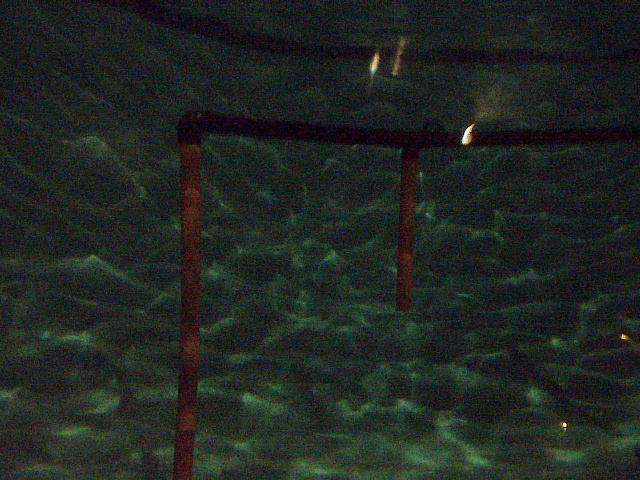Gate: (170, 138, 210, 477), (395, 152, 421, 309)
